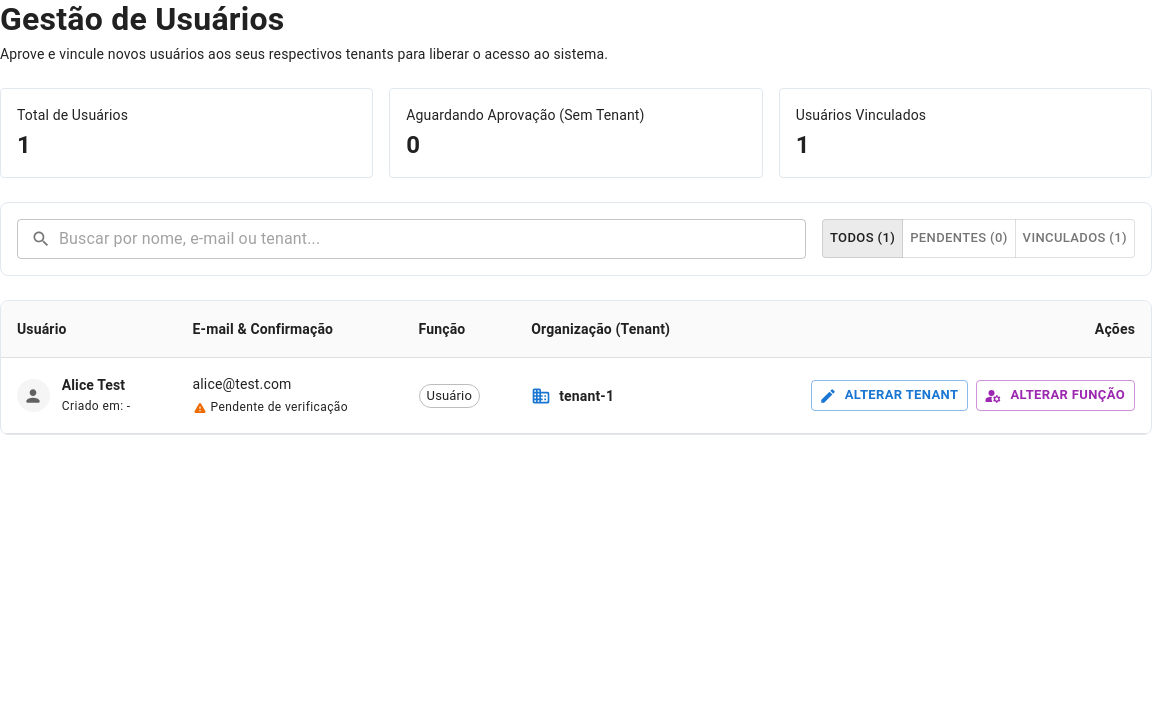
AdminUsersPage › opens edit role modal and updates user role
Expected: the heading "Alice Test" is shown, [62,375,131,397]
Step 1. Click the button "Alterar Função" → (1056, 396), box [976,380,1135,411]
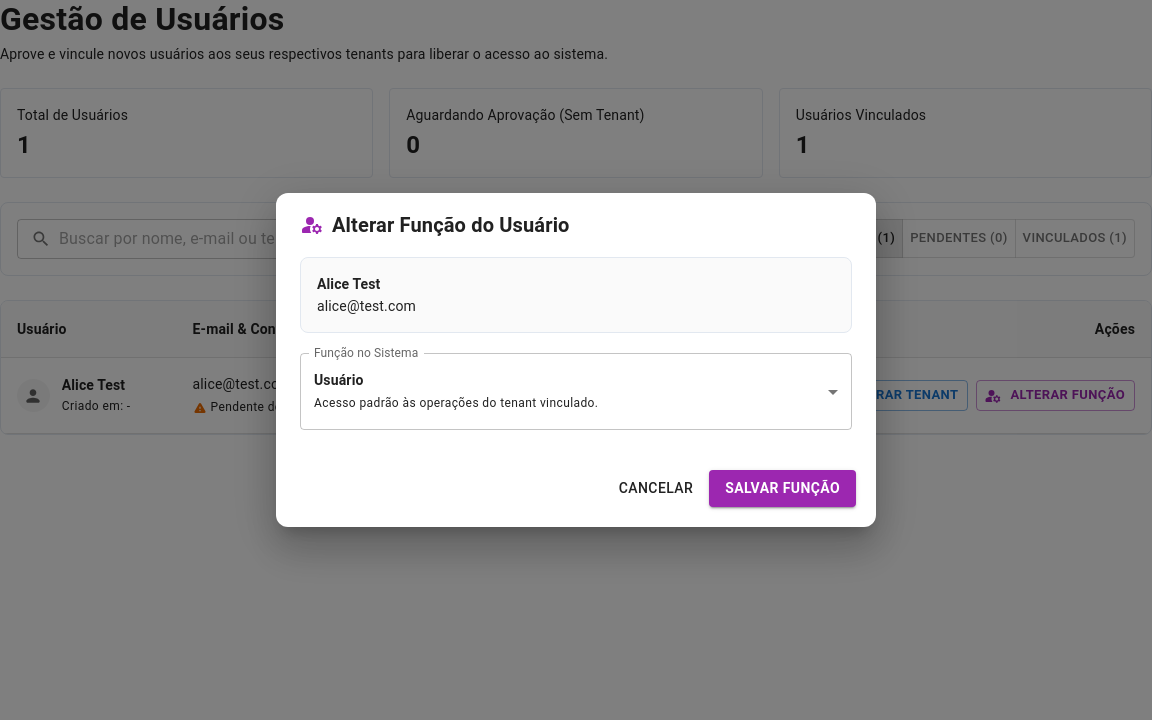
Result: the heading "Alterar Função do Usuário" is shown at [300,213,570,237]
